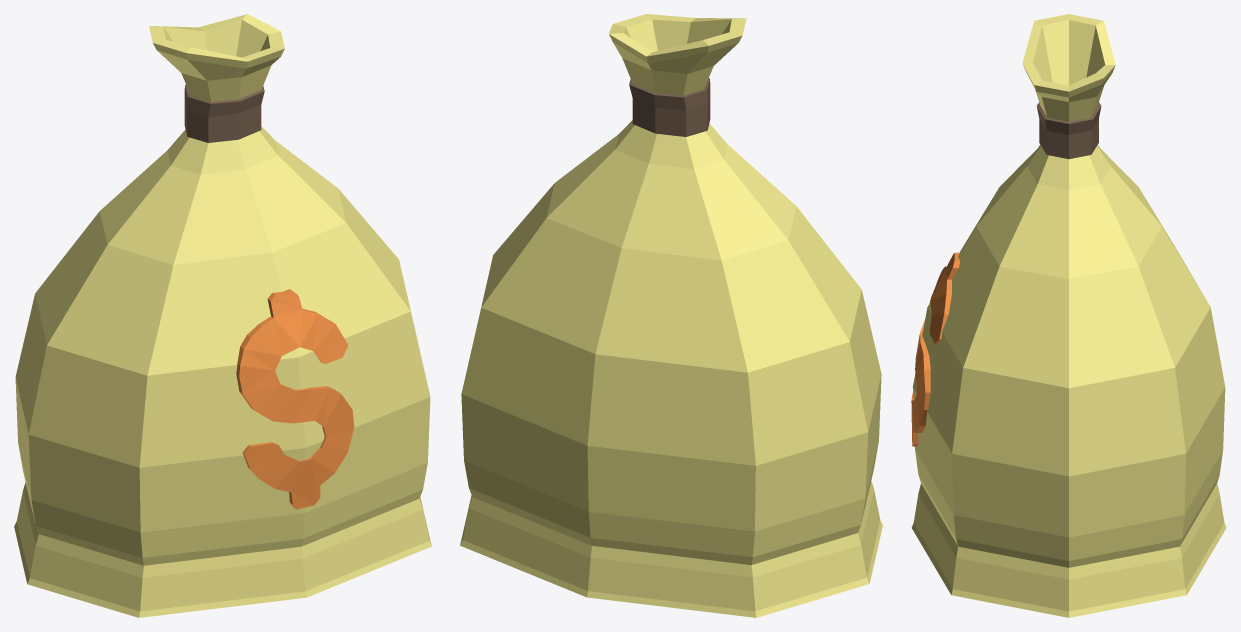
Rendered from Bag_of_gold_1.fbx.
3 views of the same model, side by side, from view 1: azimuth 30°, elevation 25°; view 2: azimuth 150°, elevation 25°; view 3: azimuth 270°, elevation 25° (orthographic). The views are drawn at different scales.
Parts seen in each view (by area): view 1: Bag_of_gold_1; view 2: Bag_of_gold_1; view 3: Bag_of_gold_1.
Part boxes in pixels (bbox=[...]): Bag_of_gold_1: bbox=[14, 14, 431, 617]; Bag_of_gold_1: bbox=[460, 14, 882, 617]; Bag_of_gold_1: bbox=[911, 14, 1226, 617].
Bounding box in the file's own units: 87.28 × 64.54 × 112.
